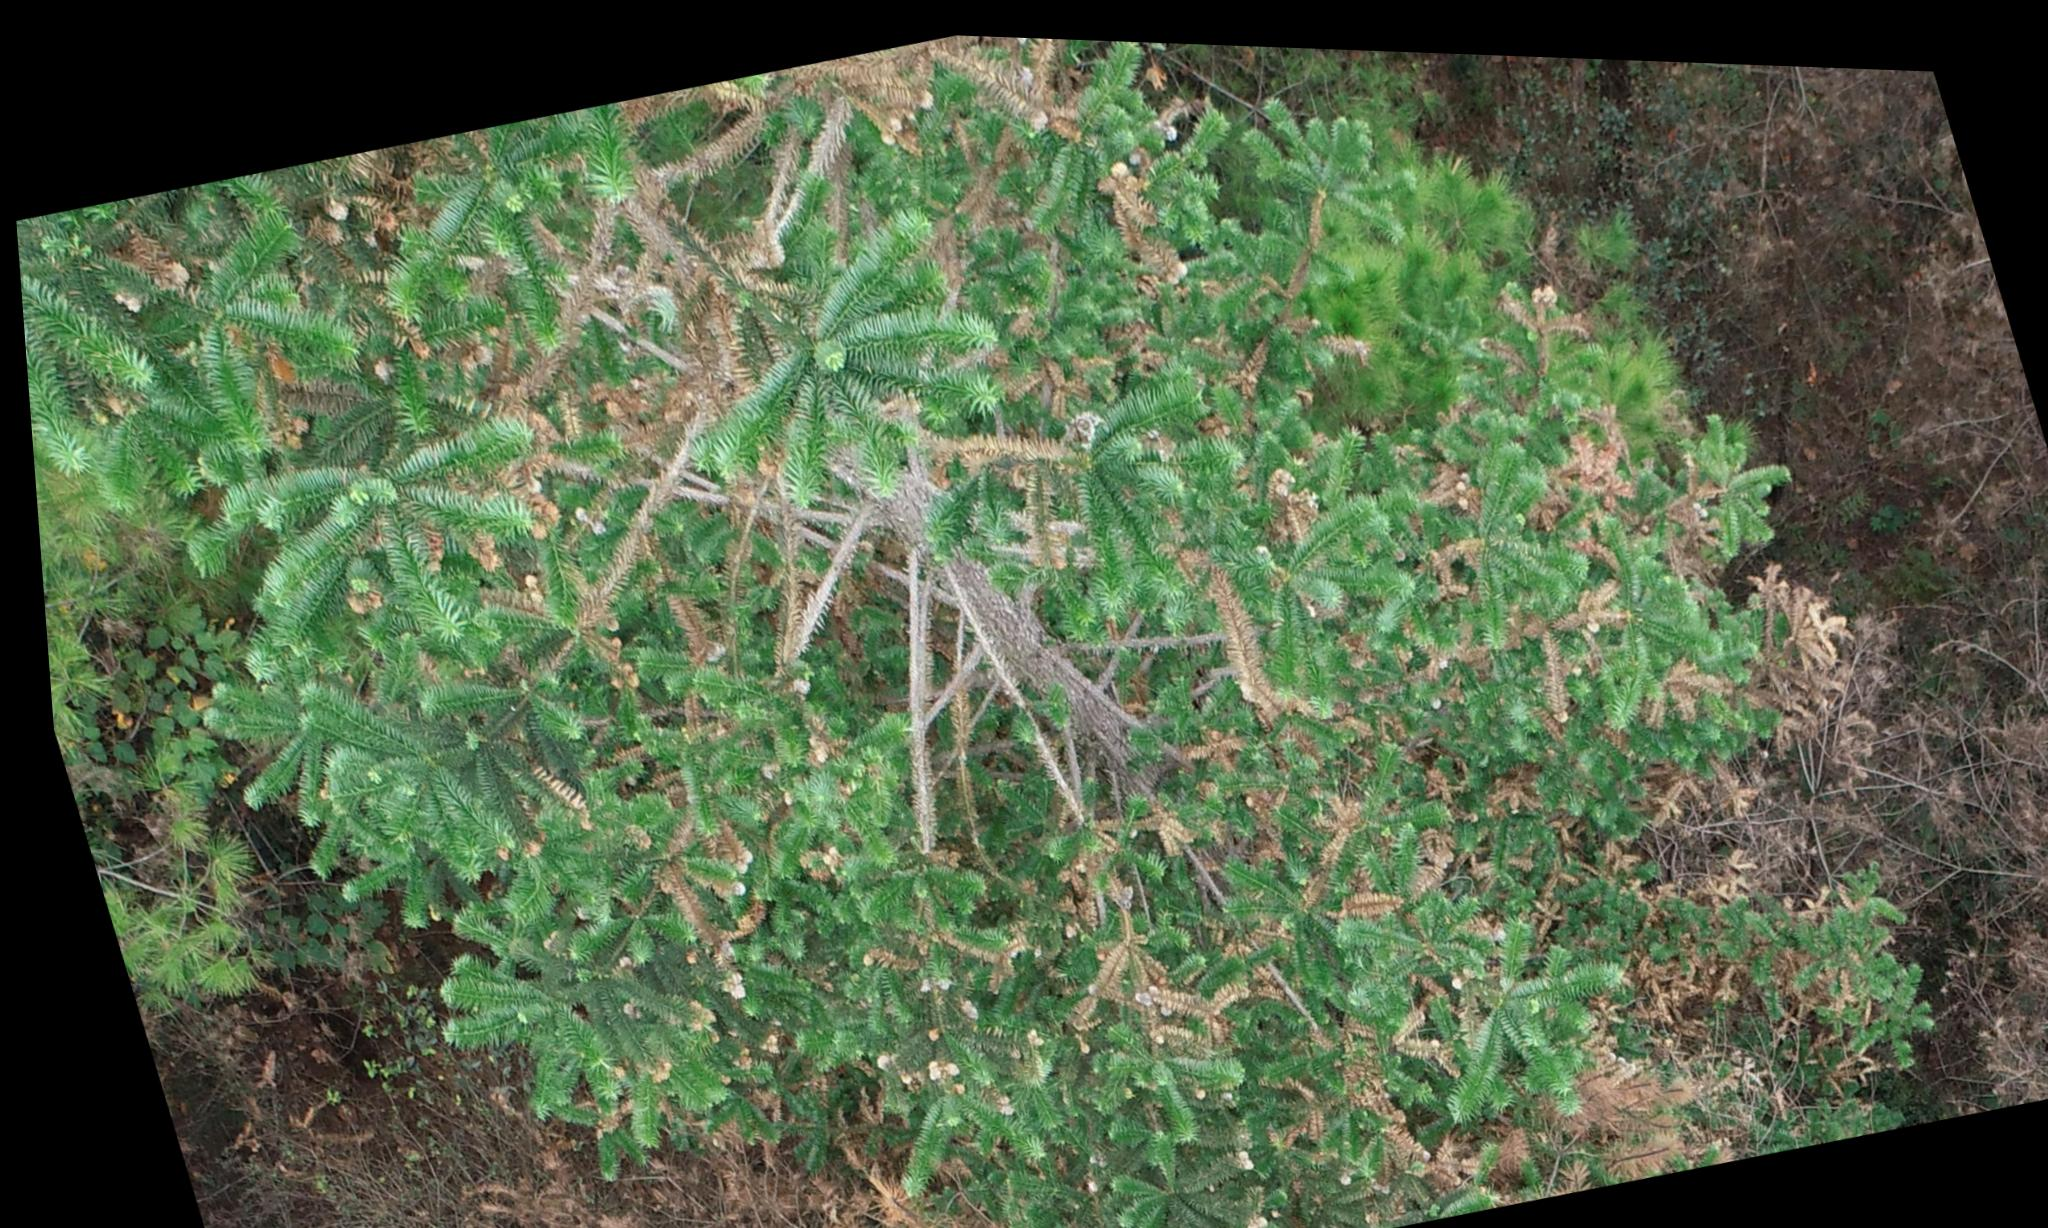light: (0, 0, 1965, 1228)
